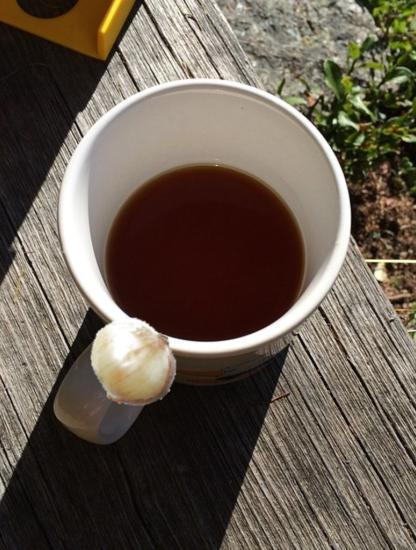Onion: (85, 314, 180, 409)
